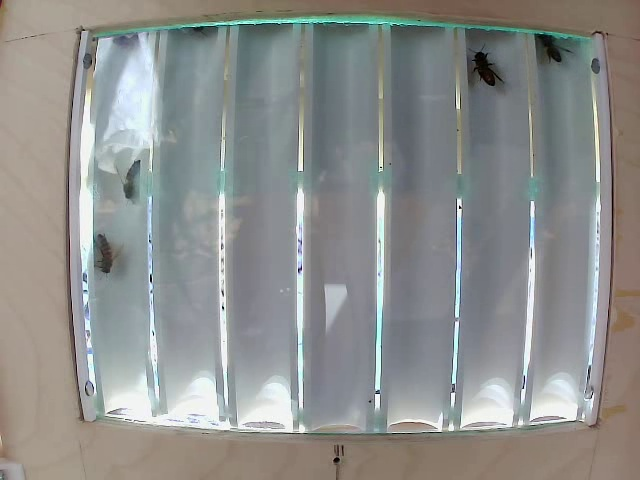bee: (87, 220, 136, 285), (464, 48, 501, 102)
